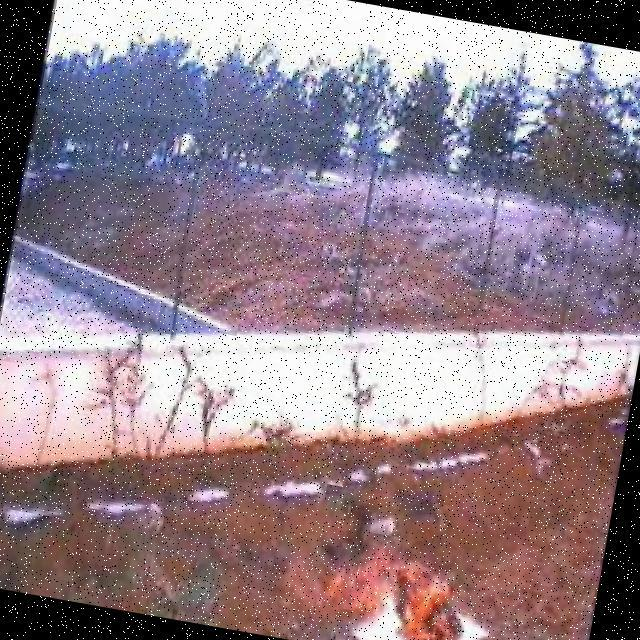Fire: (298, 528, 478, 640)
